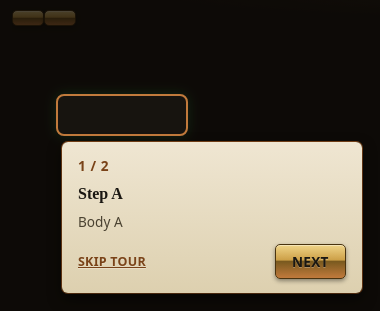
Test: FeatureTour › advances from Next through multiple steps, switching tabs along the way
Expected: the heading "Step A" is shown, [78,185,123,202]
Click the button "Next".
click(310, 262)  # box [275,244,346,279]
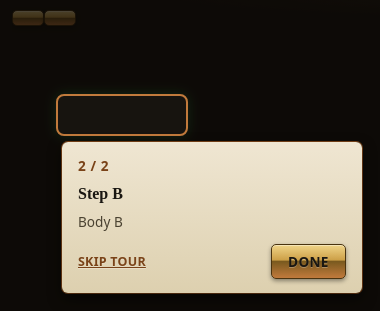
Expected: the heading "Step B" is shown, [78,185,123,202]
